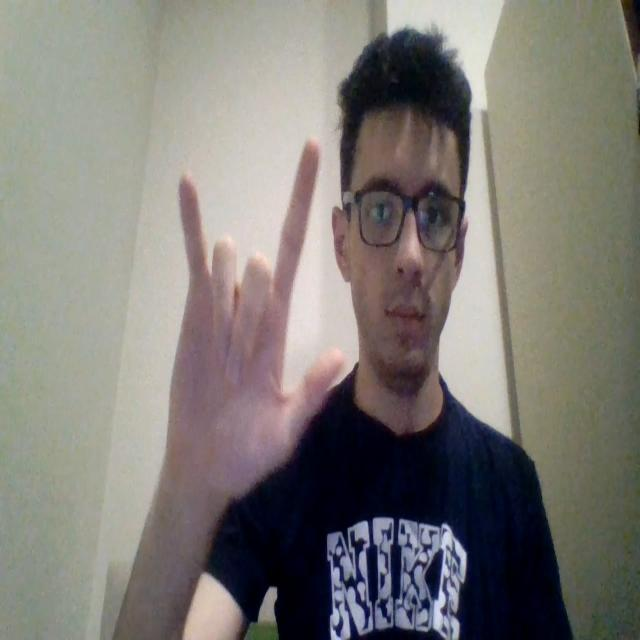iloveyou: (163, 136, 345, 505)
